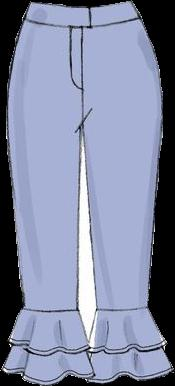Hemline: (83, 361, 174, 385), (0, 366, 98, 385), (4, 338, 89, 356), (87, 341, 167, 355)
Pantleg: (80, 1, 173, 384), (3, 2, 95, 385)
Waistline: (21, 14, 142, 29), (30, 0, 133, 9), (21, 306, 80, 314), (95, 305, 149, 313)
